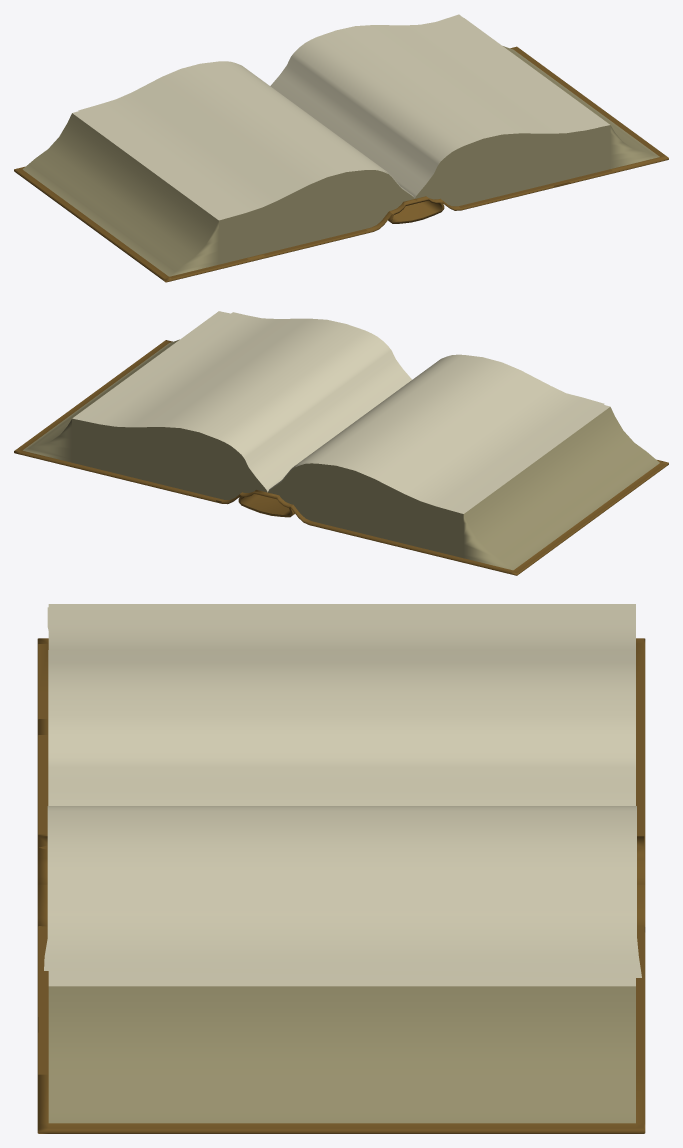
The model's file is SM_BookOpen.fbx.
3 views of the same model, one above another, from view 1: azimuth 30°, elevation 25°; view 2: azimuth 150°, elevation 25°; view 3: azimuth 270°, elevation 25° (orthographic). The views are drawn at different scales.
Parts seen in each view (by area): view 1: polySurface139; view 2: polySurface139; view 3: polySurface139.
Boxes of the visible parts, x1=… form: polySurface139: x1=14, y1=14, x2=668, y2=282; polySurface139: x1=14, y1=311, x2=668, y2=575; polySurface139: x1=37, y1=604, x2=645, y2=1133.
Size of the model in its own units: 70.38 by 8.68 by 36.78.
